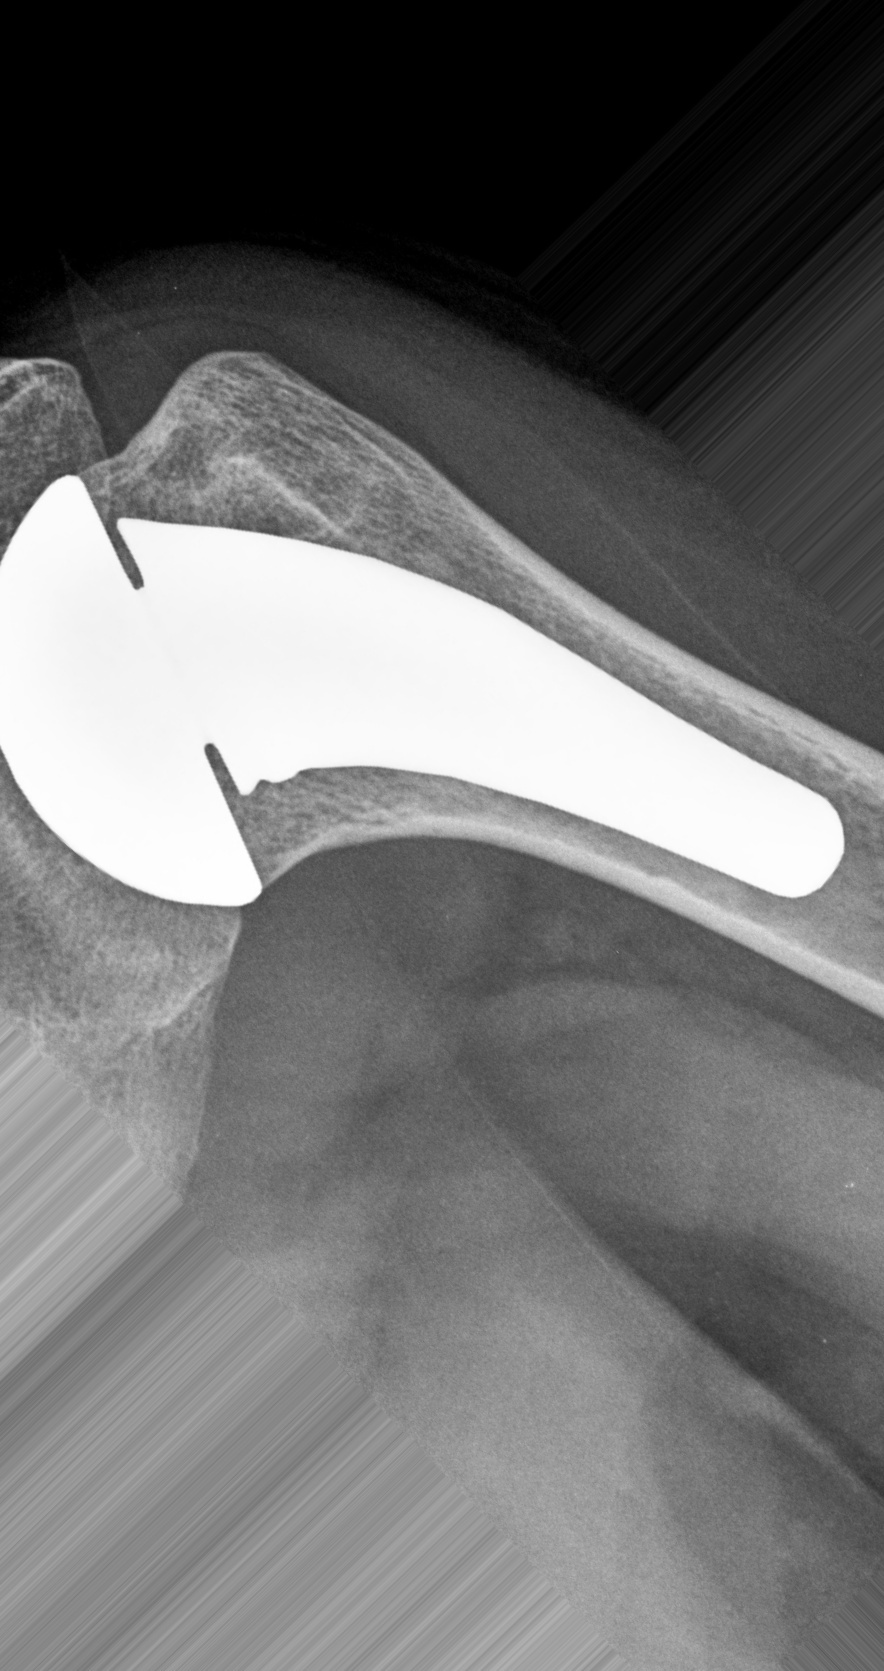Shoulder - AequalisAscendFlex - Tornier: (1, 430, 280, 931)
